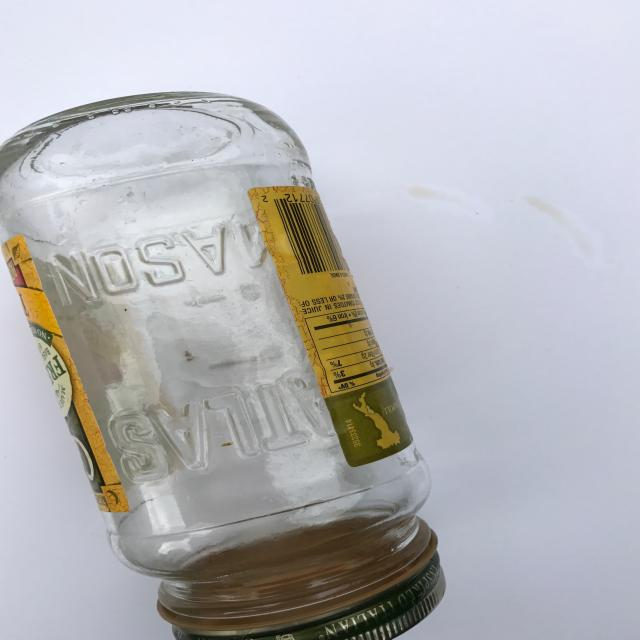glass: (0, 90, 447, 640)
